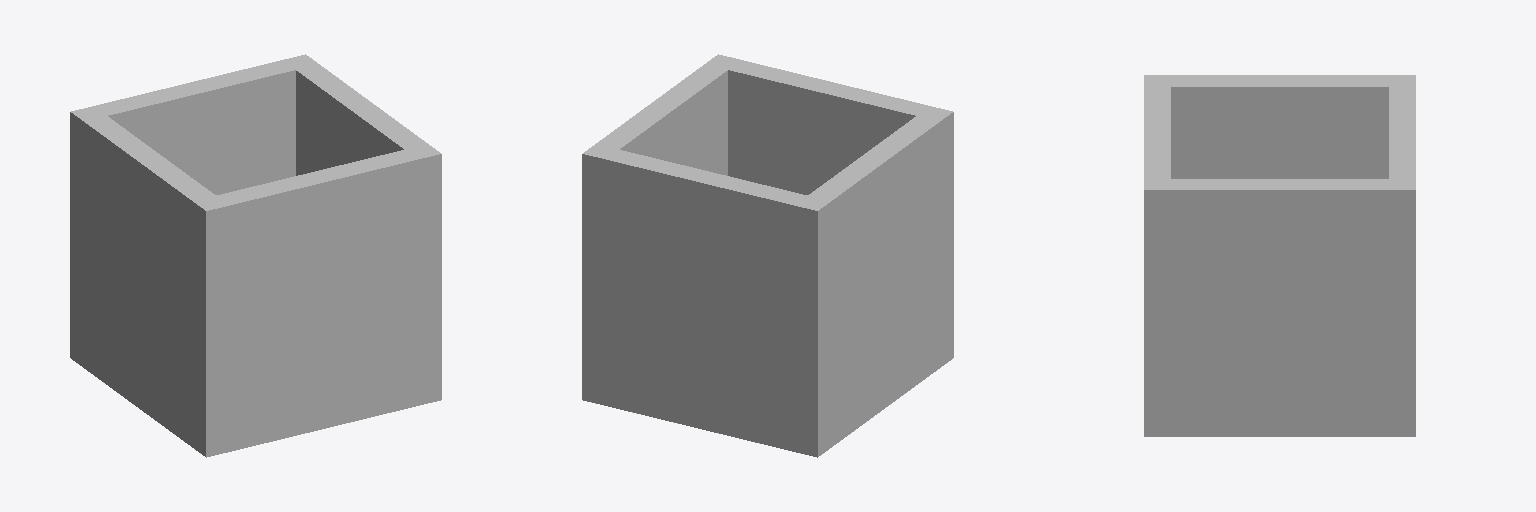
File: barrel.obj
3 renders of one model, left to right at view 1: azimuth 30°, elevation 25°; view 2: azimuth 150°, elevation 25°; view 3: azimuth 270°, elevation 25°, orthographic.
Parts seen in each view (by area): view 1: g0; view 2: g0; view 3: g0.
Boxes of the visible parts, x1=… form: g0: x1=70, y1=54, x2=441, y2=457; g0: x1=582, y1=54, x2=953, y2=457; g0: x1=1144, y1=75, x2=1415, y2=436.
Bounding box in the file's own units: 1 × 1 × 1.